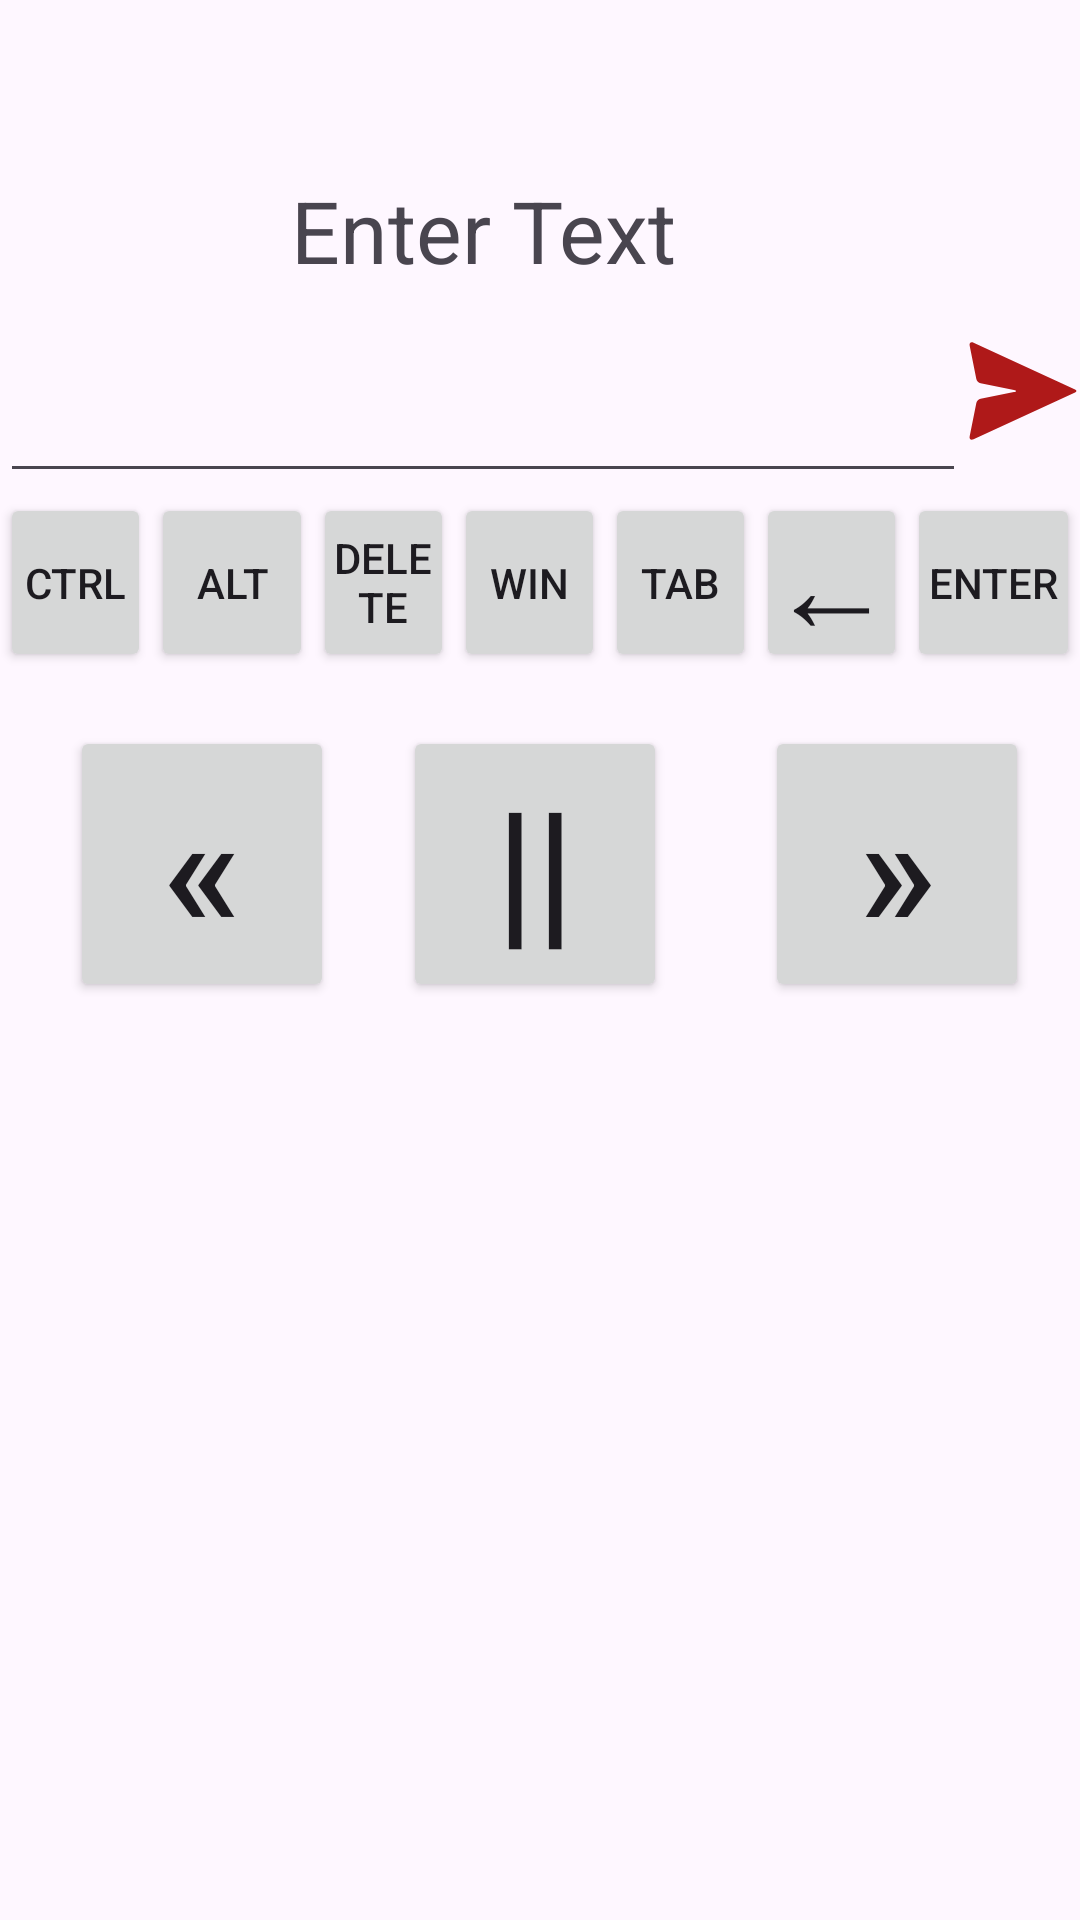

Icons on this 1080px×1920px Android screen, each with its box as BBox(x1, y1, x2, y2):
send: BBox(969, 342, 1077, 440)
